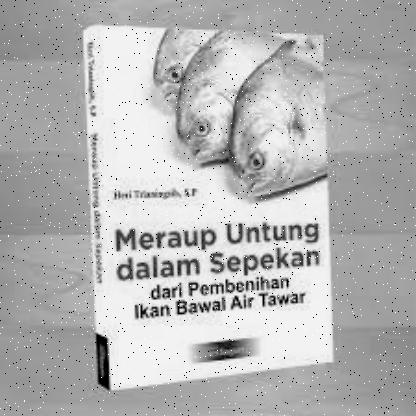ikan-pacu: (233, 31, 323, 194), (176, 31, 255, 161)
